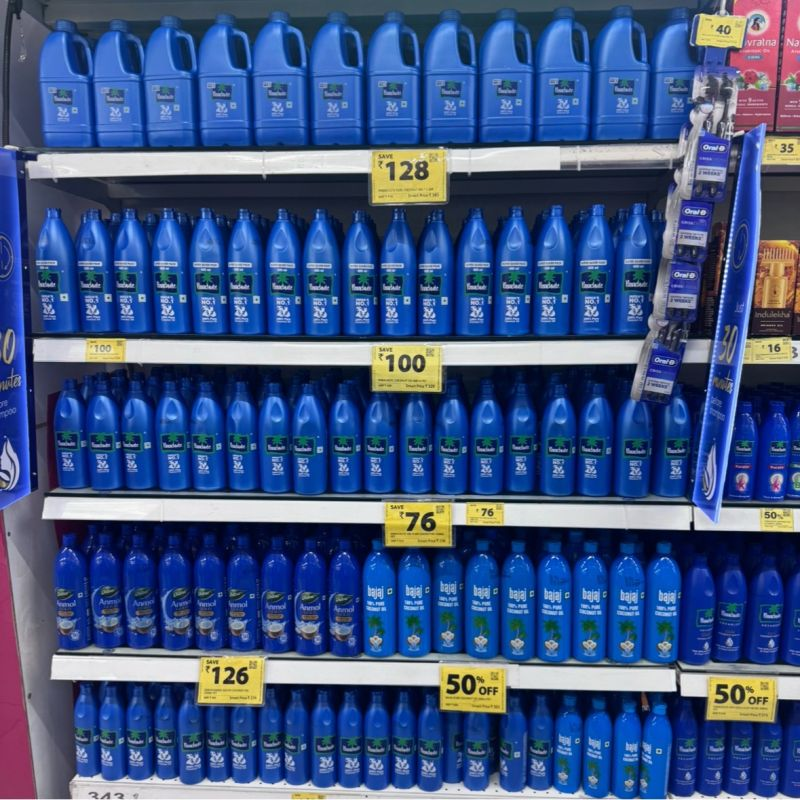parachute: (500, 657, 528, 685), (221, 500, 260, 518), (321, 498, 345, 523), (175, 490, 201, 511), (447, 501, 465, 521), (112, 491, 133, 507), (292, 500, 321, 510), (460, 504, 475, 522), (90, 498, 101, 519), (532, 666, 542, 687), (611, 499, 627, 512), (502, 504, 509, 523), (268, 660, 274, 680), (558, 668, 564, 687), (66, 509, 76, 518), (86, 342, 96, 351), (109, 512, 124, 518), (675, 502, 686, 510), (402, 664, 407, 680), (380, 669, 385, 684), (177, 512, 186, 519)
